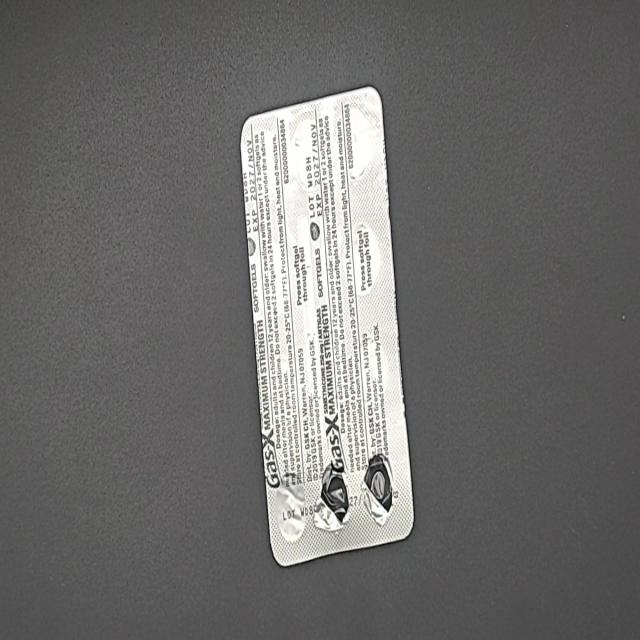defect: (360, 452, 400, 528), (313, 460, 353, 535)
